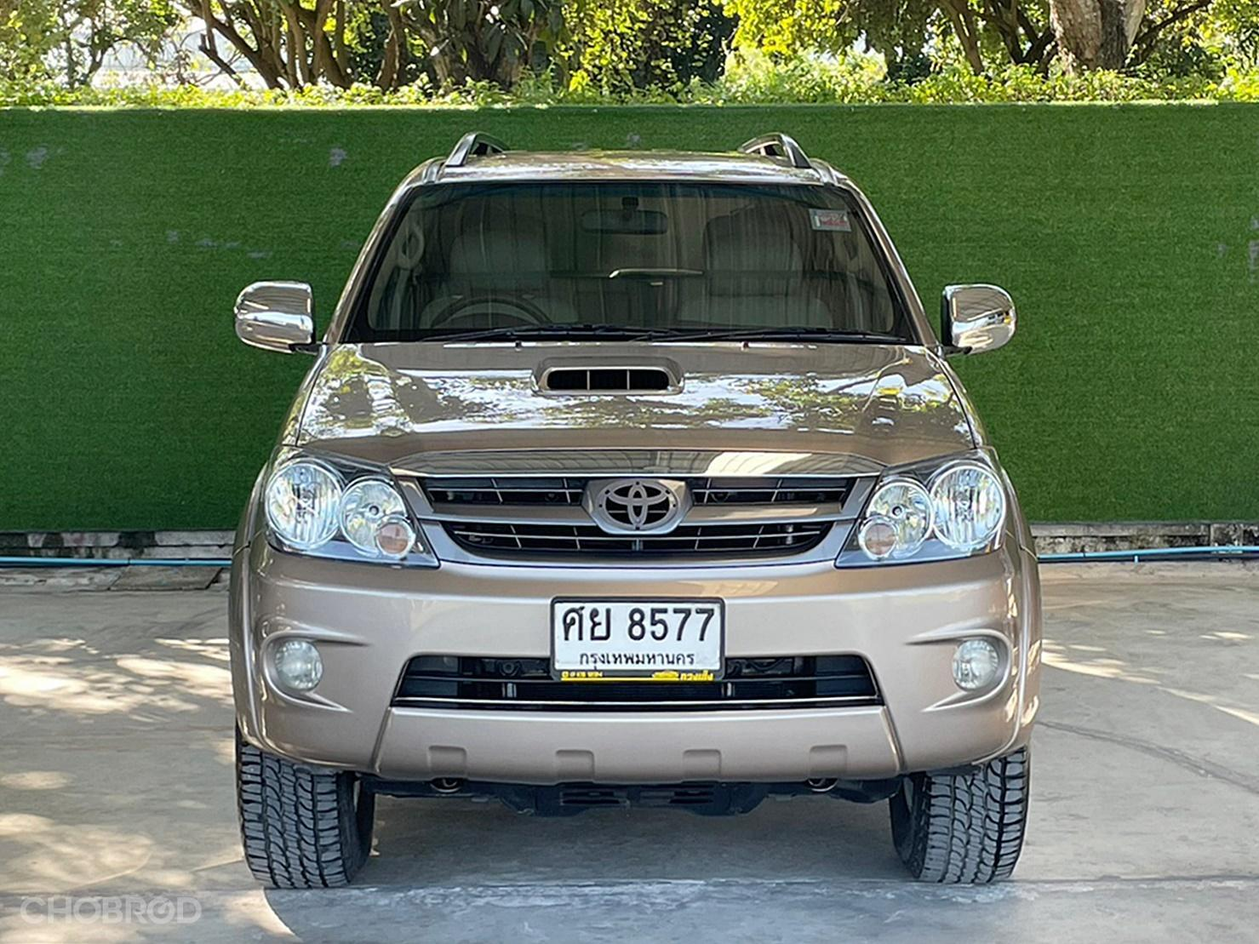license-plate: (540, 586, 734, 694)
